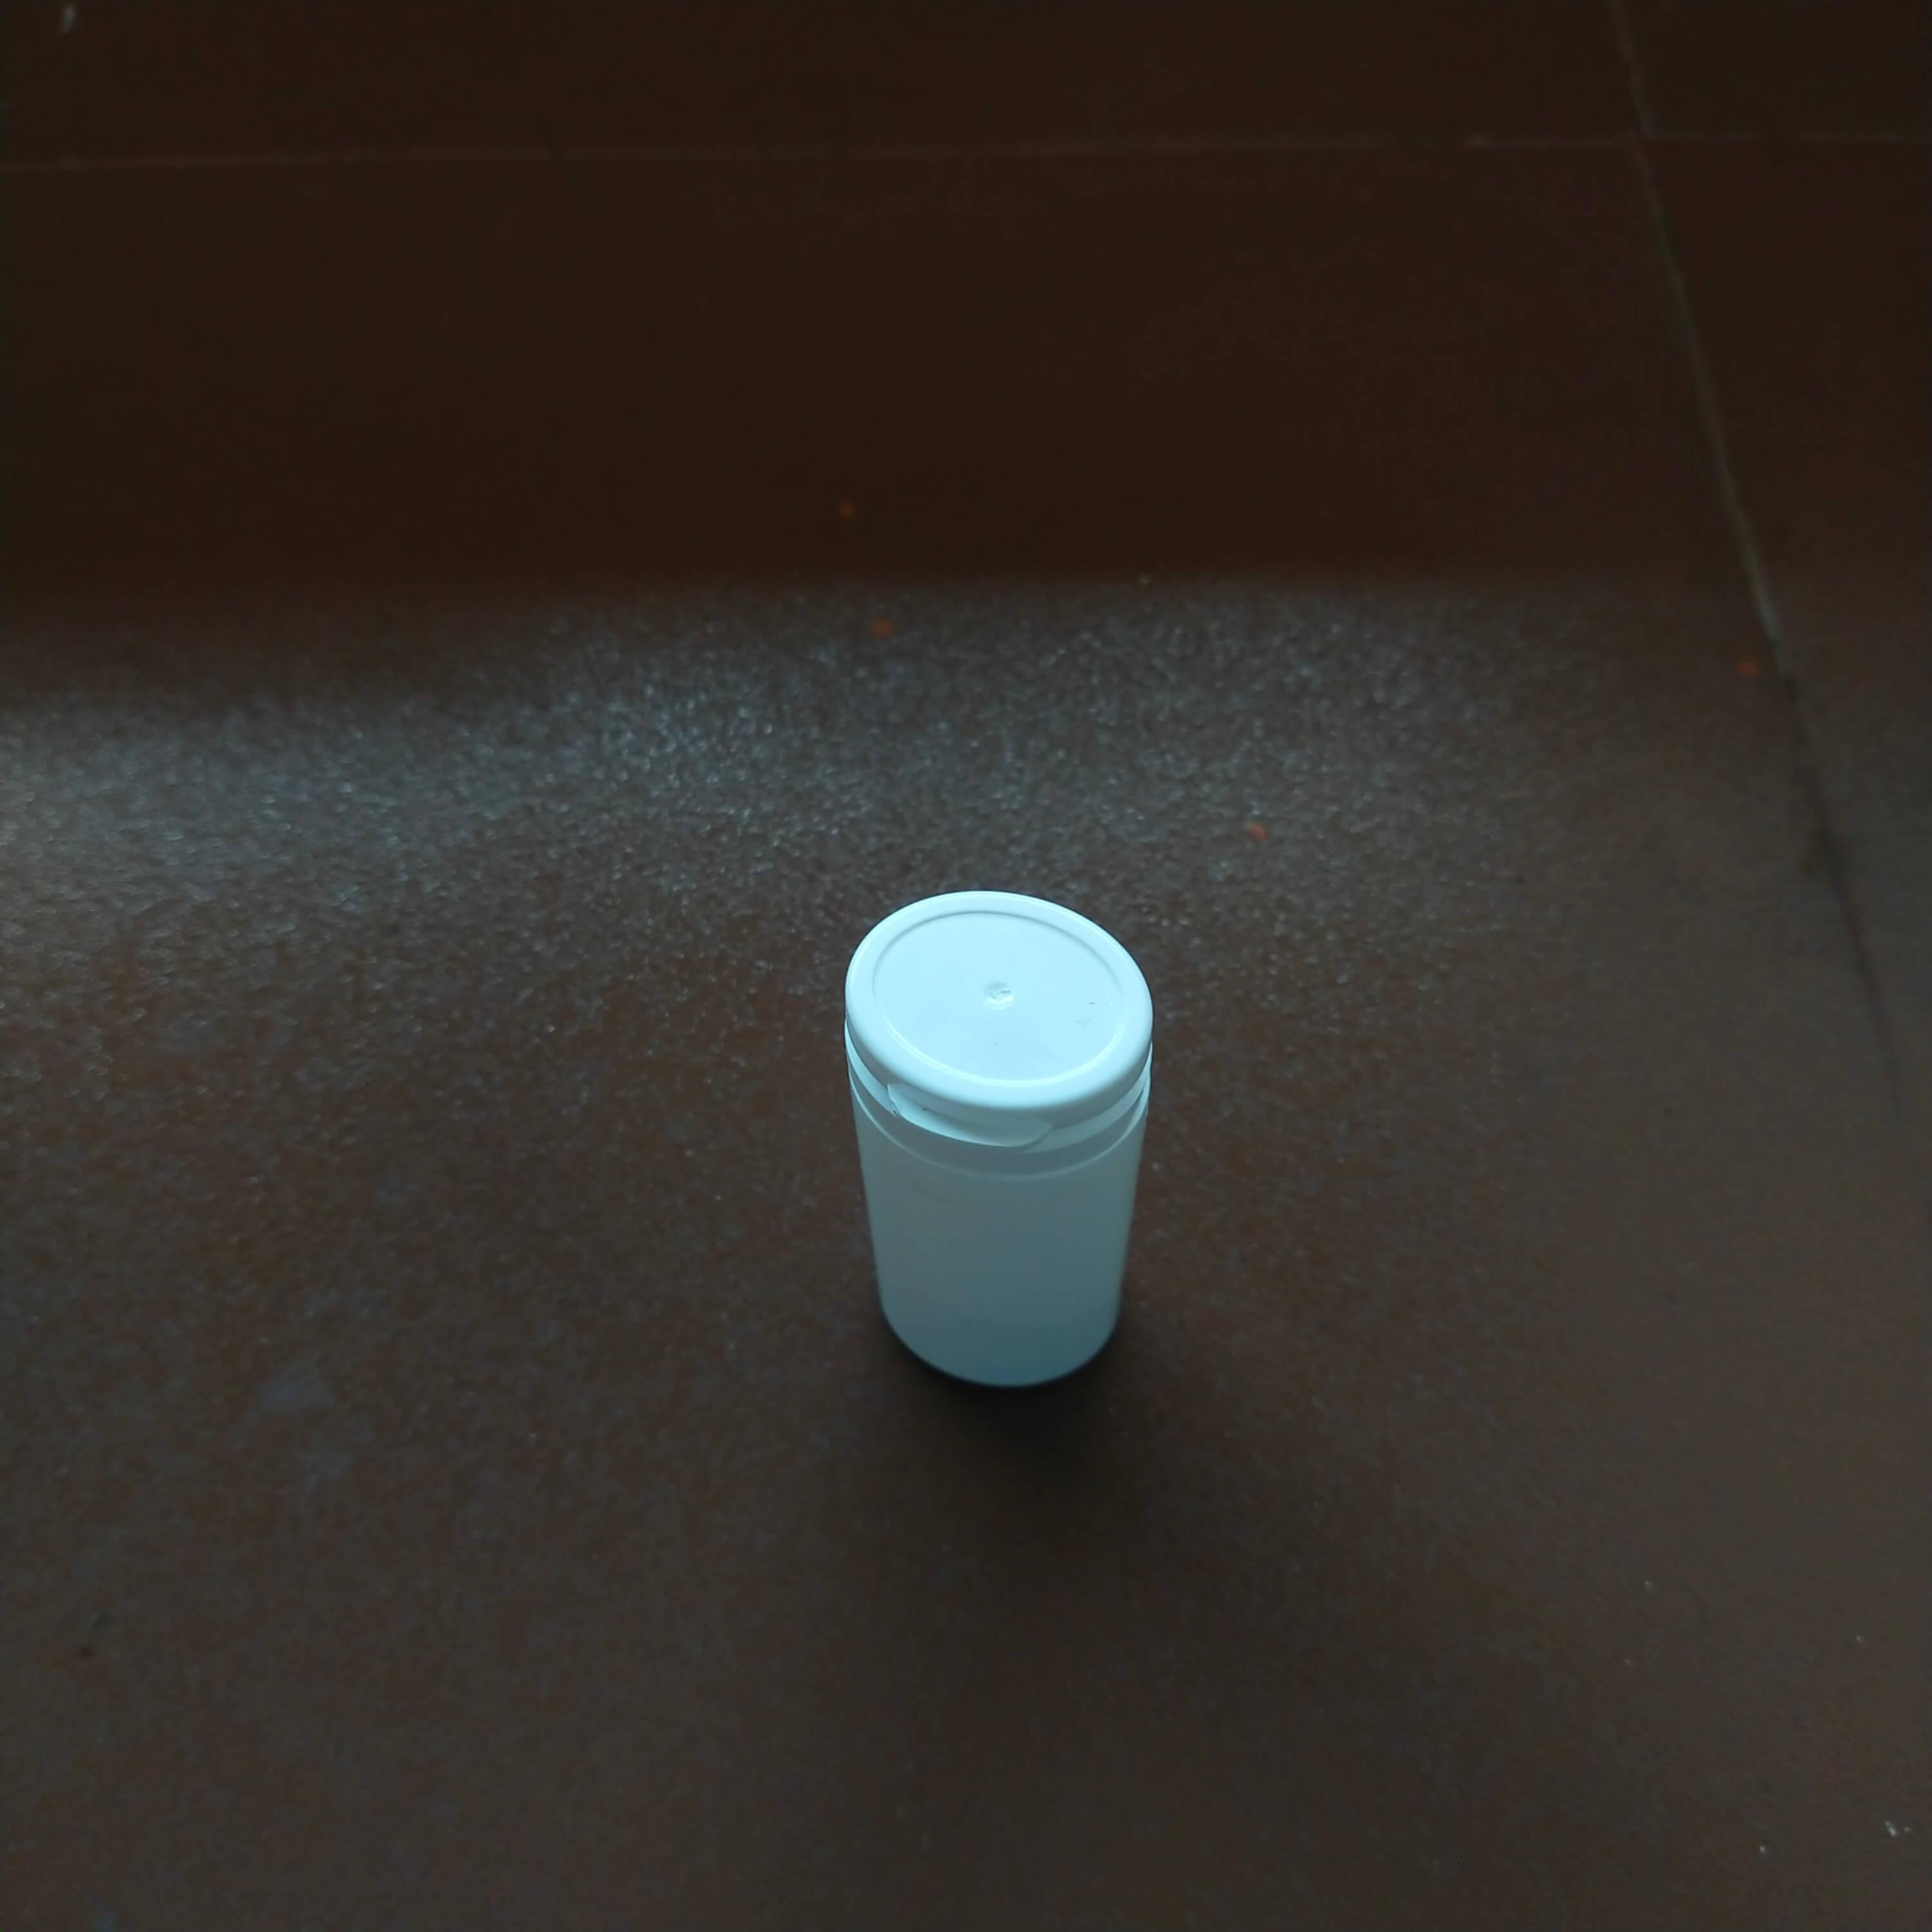plastic box: (805, 867, 1201, 1424)
